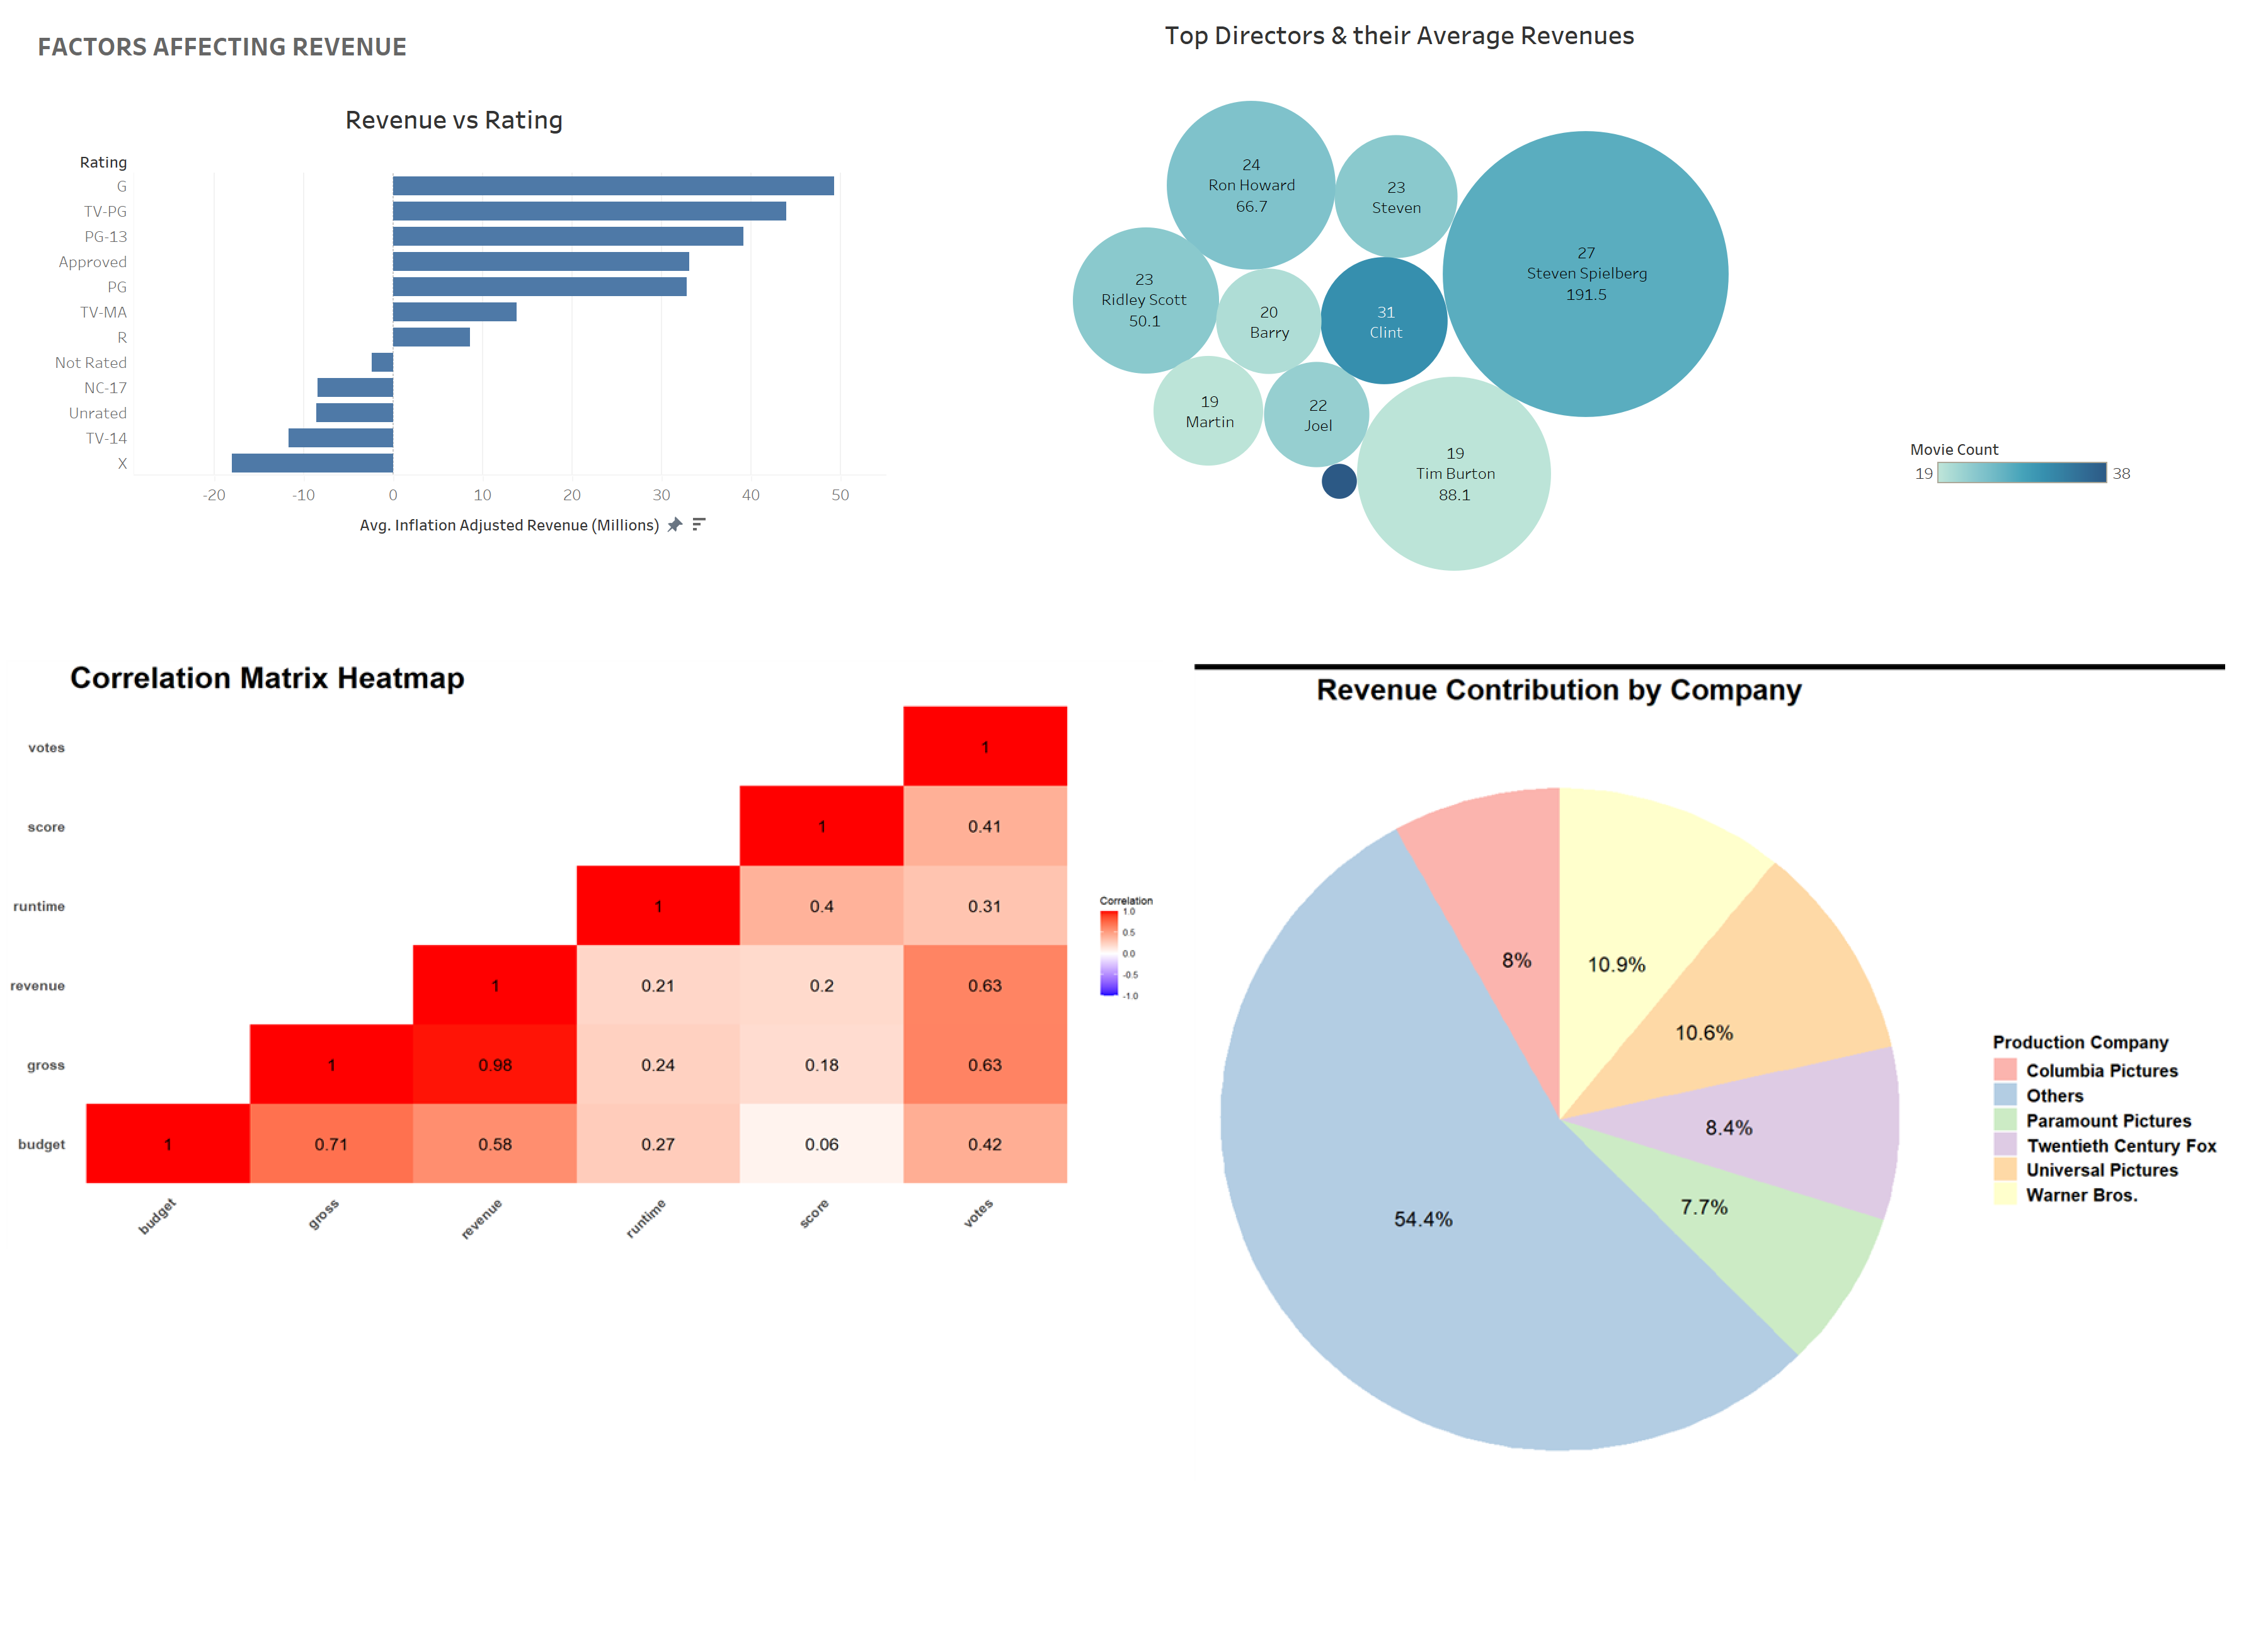

The dashboard page shown, as its layout file describes it:
{"tool":"tableau","page":{"name":"Dashboard 1","canvas":[1800,1300],"ordinal":0},"visuals":[{"type":"text","box":[27,0,603,72.1]},{"type":"worksheet","title":"Bubble","mark":"Circle","box":[850,7,849,476]},{"type":"blank","box":[8,8,1784,505]},{"type":"worksheet","title":"Bar","mark":"Automatic","rows":["rating"],"cols":["ia_revenue_millions"],"box":[18,74,685,391]},{"type":"legend","title":"Bubble","param":"[federated.1bdt5780kh125d1et9ry61xvee1w].[__tableau_internal_object_id__].[cnt:m","box":[1516,344,180,128]},{"type":"image","param":"Image/Correlatiion Matrix heatmap.png","box":[5,524,918,543]},{"type":"image","param":"Image/Revenue Contribution By Company.png","box":[948,527,836,648]}]}

Visuals, with their boxes in screenshot pixels (x1, y1, x2, y2), scaled from the page's 1800x1300 canvas onto the 2268x1638 screenshot:
text: locate(34, 0, 794, 91)
"Bubble" worksheet (Circle marks): locate(1071, 9, 2141, 609)
blank: locate(10, 10, 2258, 646)
"Bar" worksheet: locate(23, 93, 886, 586)
"Bubble" legend: locate(1910, 433, 2137, 595)
image: locate(6, 660, 1163, 1344)
image: locate(1194, 664, 2248, 1480)
